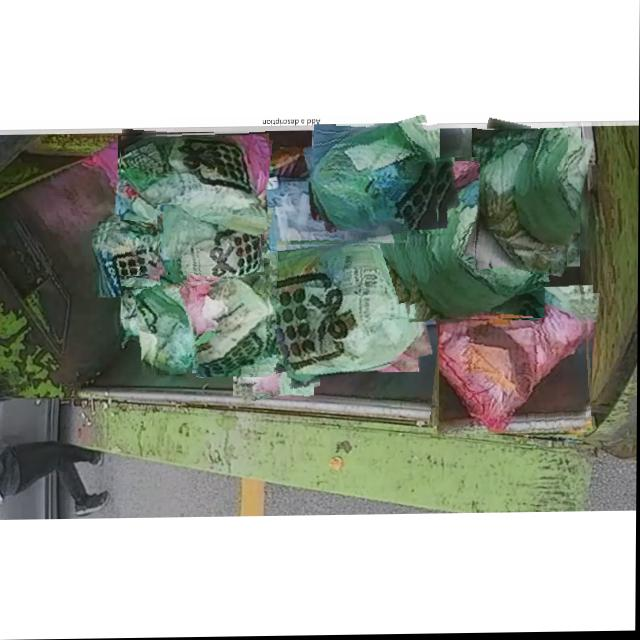general_trashbag: (412, 157, 545, 320), (278, 245, 418, 383), (122, 134, 266, 235), (314, 125, 437, 232), (477, 129, 567, 275), (158, 205, 263, 290), (198, 277, 269, 378), (136, 290, 206, 373), (93, 230, 166, 298), (122, 276, 184, 341)
other_trashbag: (441, 290, 589, 434), (259, 182, 407, 279), (238, 327, 310, 395)
